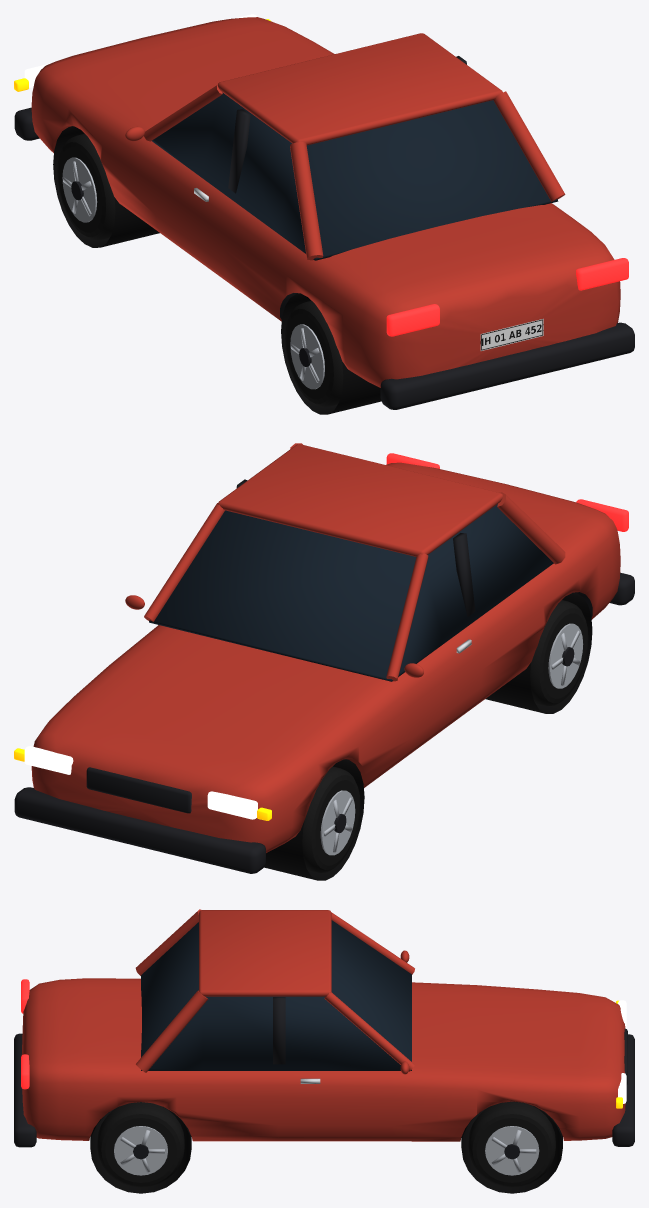
Rendered from sedan.glb.
3 views of the same model, one above another, from view 1: azimuth 30°, elevation 25°; view 2: azimuth 150°, elevation 25°; view 3: azimuth 270°, elevation 25° (orthographic). The views are drawn at different scales.
Parts seen in each view (by area): view 1: body, car_Glass, car_CarPaint, car_Trim, car_Rubber, car_ArchLiner, car_RimSilver, car_TailLight, car_PlateMH; view 2: body, car_Glass, car_CarPaint, car_Trim, car_Rubber, car_ArchLiner, car_RimSilver, car_HeadLight, car_TailLight; view 3: body, car_Glass, car_CarPaint, car_Rubber, car_Trim, car_RimSilver, car_ArchLiner, car_TailLight.
Part boxes in pixels (<box>): body: <box>31,17,620,387</box>; car_Glass: <box>152,92,558,260</box>; car_CarPaint: <box>125,33,565,260</box>; car_Trim: <box>14,56,634,409</box>; car_Rubber: <box>57,133,343,406</box>; car_ArchLiner: <box>53,126,381,414</box>; car_RimSilver: <box>62,157,324,389</box>; car_TailLight: <box>386,258,628,336</box>; car_PlateMH: <box>480,318,543,350</box>; body: <box>31,462,620,852</box>; car_Glass: <box>149,504,553,681</box>; car_CarPaint: <box>125,443,565,681</box>; car_Trim: <box>14,479,634,873</box>; car_Rubber: <box>302,600,588,872</box>; car_ArchLiner: <box>264,592,592,880</box>; car_RimSilver: <box>320,623,583,855</box>; car_HeadLight: <box>24,746,257,819</box>; car_TailLight: <box>386,453,628,531</box>; body: <box>21,978,625,1141</box>; car_Glass: <box>141,920,411,1070</box>; car_CarPaint: <box>135,909,414,1074</box>; car_Rubber: <box>97,1101,555,1187</box>; car_Trim: <box>14,997,634,1159</box>; car_RimSilver: <box>114,1126,539,1175</box>; car_ArchLiner: <box>90,1101,562,1193</box>; car_TailLight: <box>21,979,29,1089</box>.
Bounding box in the file's own units: 1.99 × 1.52 × 4.4.
Materials: 11 (1 with a texture image).
